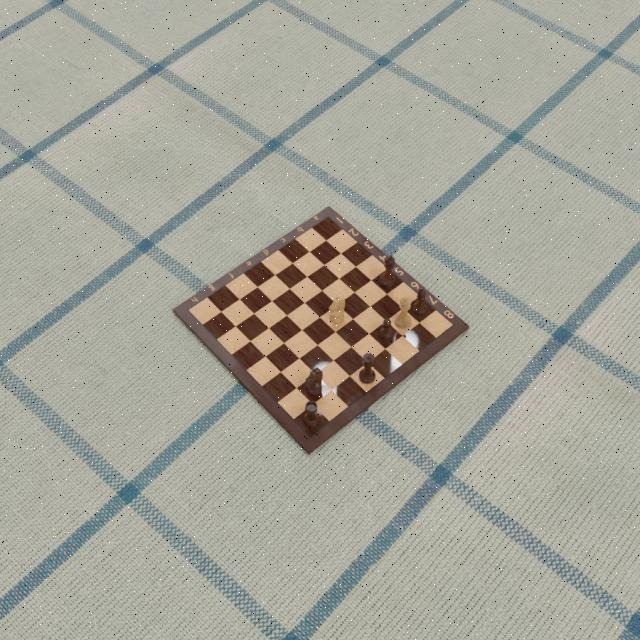black-bishop: (411, 288, 428, 316)
black-king: (379, 255, 397, 289)
black-knight: (305, 367, 324, 397)
black-pawn: (377, 317, 394, 342)
black-queen: (358, 351, 375, 384)
black-rook: (303, 400, 321, 428)
white-knight: (329, 296, 347, 324)
white-pawn: (394, 296, 413, 329)
